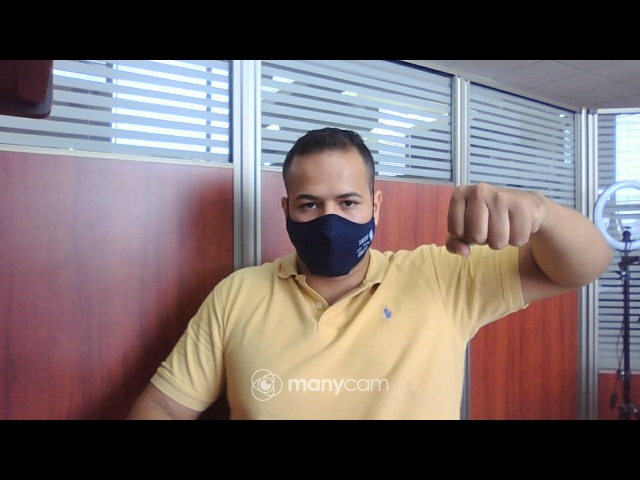Yes: (445, 179, 545, 263)
